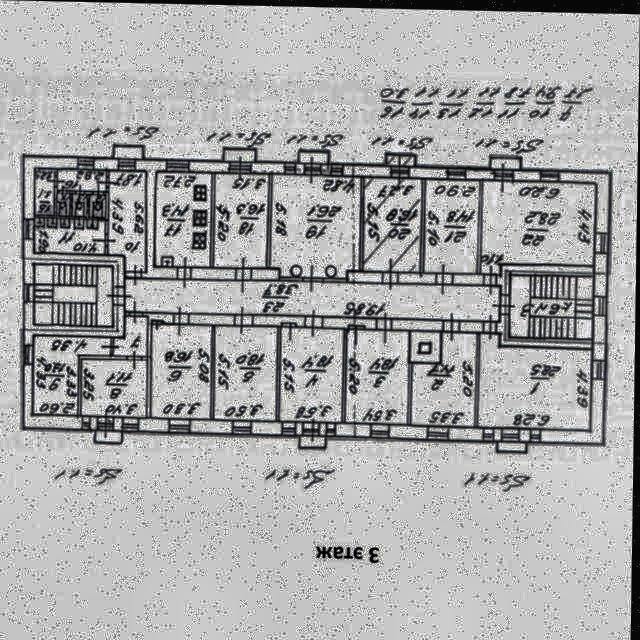room: (126, 278, 501, 319), (481, 179, 596, 275), (479, 331, 593, 427), (271, 173, 362, 277), (34, 336, 112, 416), (413, 330, 477, 425), (215, 325, 279, 420), (347, 329, 409, 423), (282, 327, 344, 421), (152, 323, 213, 418), (365, 177, 422, 270), (510, 273, 594, 336), (157, 171, 212, 267), (425, 177, 479, 271), (215, 172, 268, 267), (34, 265, 115, 326), (82, 359, 149, 417), (109, 171, 147, 272), (35, 219, 106, 254), (115, 316, 149, 355), (58, 170, 107, 191), (35, 170, 55, 214), (225, 149, 255, 161), (90, 195, 106, 217), (73, 194, 88, 216), (492, 156, 520, 167), (116, 147, 143, 158), (301, 151, 328, 162), (58, 194, 71, 216), (302, 435, 326, 446), (98, 431, 122, 442), (388, 154, 414, 164), (500, 440, 527, 449)
